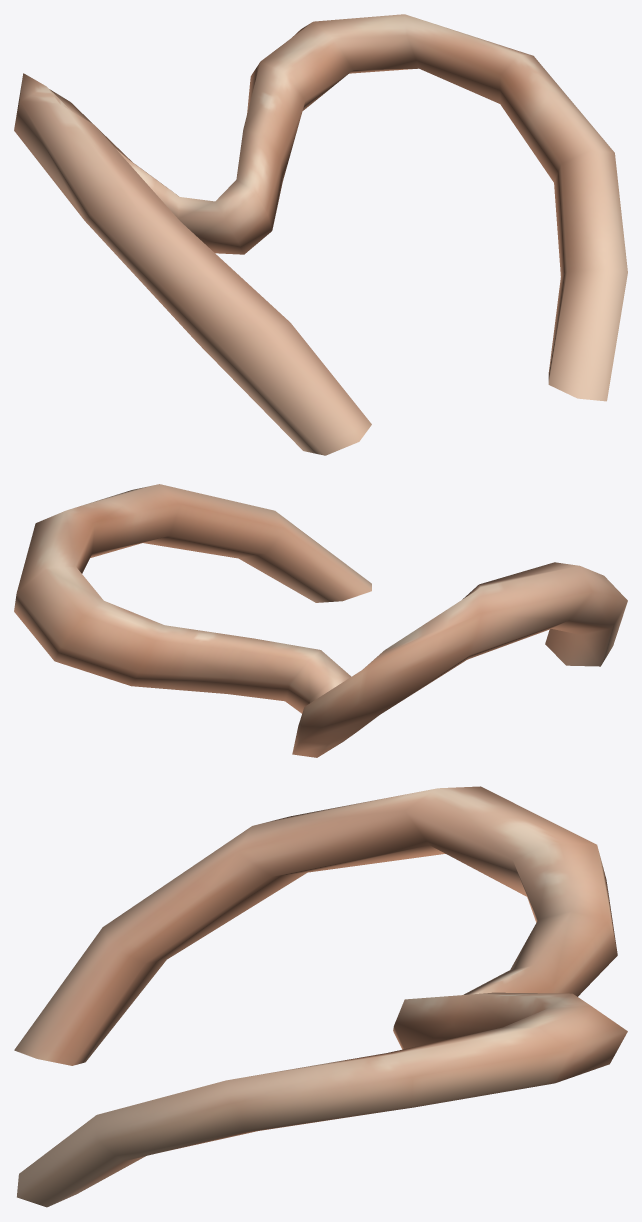
Rendered from ramennoodles_001.fbx.
The picture shows the model from 3 angles, top to bottom: view 1: azimuth 30°, elevation 25°; view 2: azimuth 150°, elevation 25°; view 3: azimuth 270°, elevation 25°; orthographic projection. The views are drawn at different scales.
Parts seen in each view (by area): view 1: ramennoodles.001; view 2: ramennoodles.001; view 3: ramennoodles.001.
Boxes of the visible parts, x1,y1,x2,y2 form: ramennoodles.001: (14, 14, 627, 455); ramennoodles.001: (14, 484, 627, 757); ramennoodles.001: (14, 786, 627, 1207).
Size of the model in its own units: 8.93 by 3.94 by 9.13.
